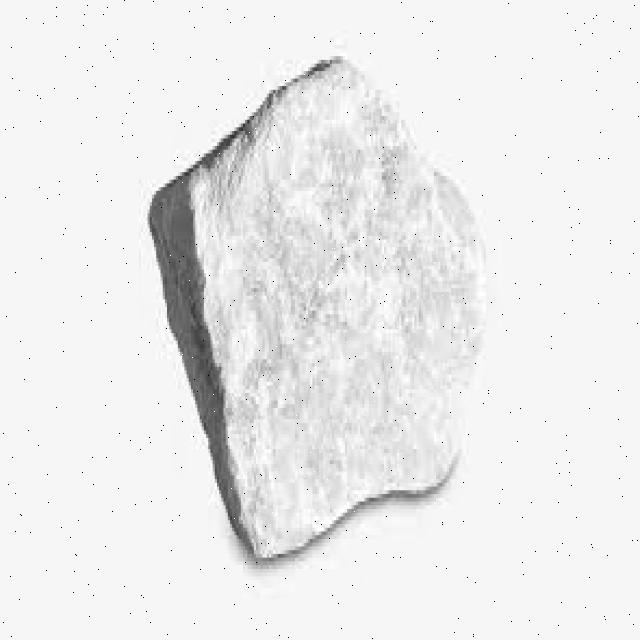Metamorphic: (111, 45, 499, 558)
